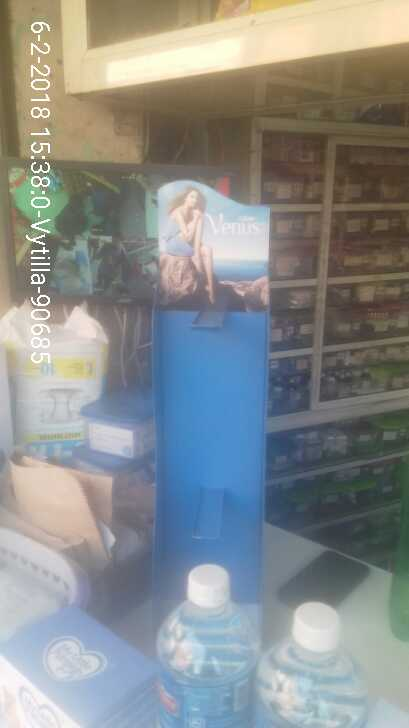reject: (101, 245, 208, 376)
